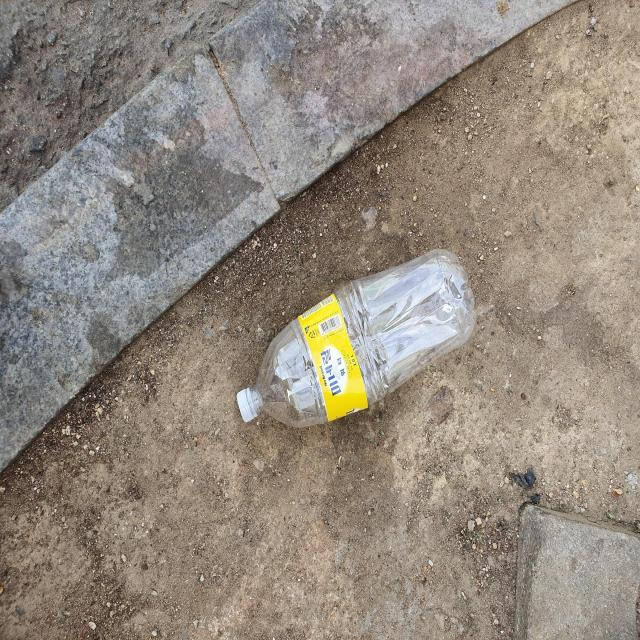plastic: (236, 249, 477, 427)
